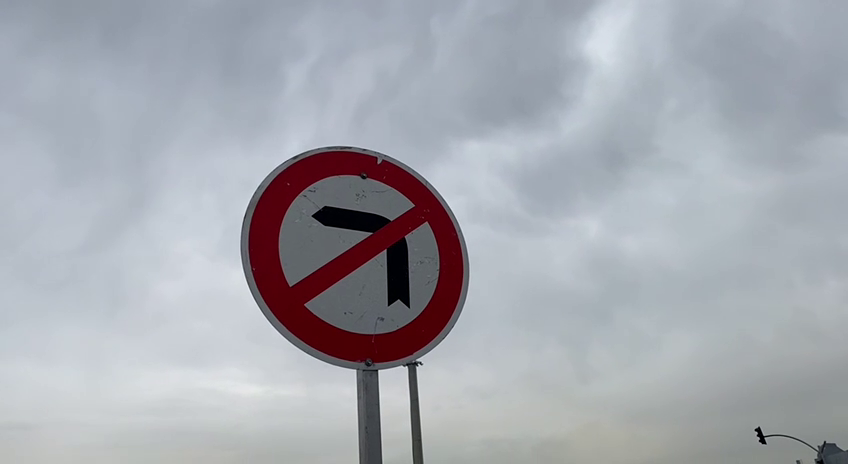noTurnLeft: (235, 140, 473, 376)
